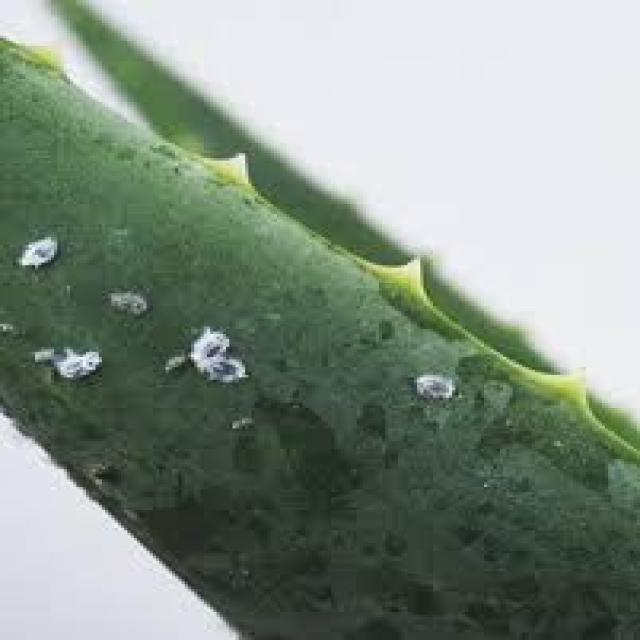scale_insect: (48, 339, 105, 383), (96, 278, 156, 319), (191, 350, 252, 388), (10, 227, 60, 270), (182, 319, 232, 362), (404, 365, 458, 400), (153, 344, 191, 375), (22, 339, 58, 367)
